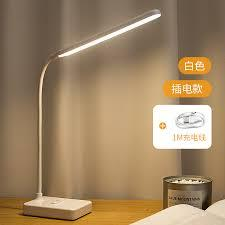Lamp: (15, 1, 175, 225)
